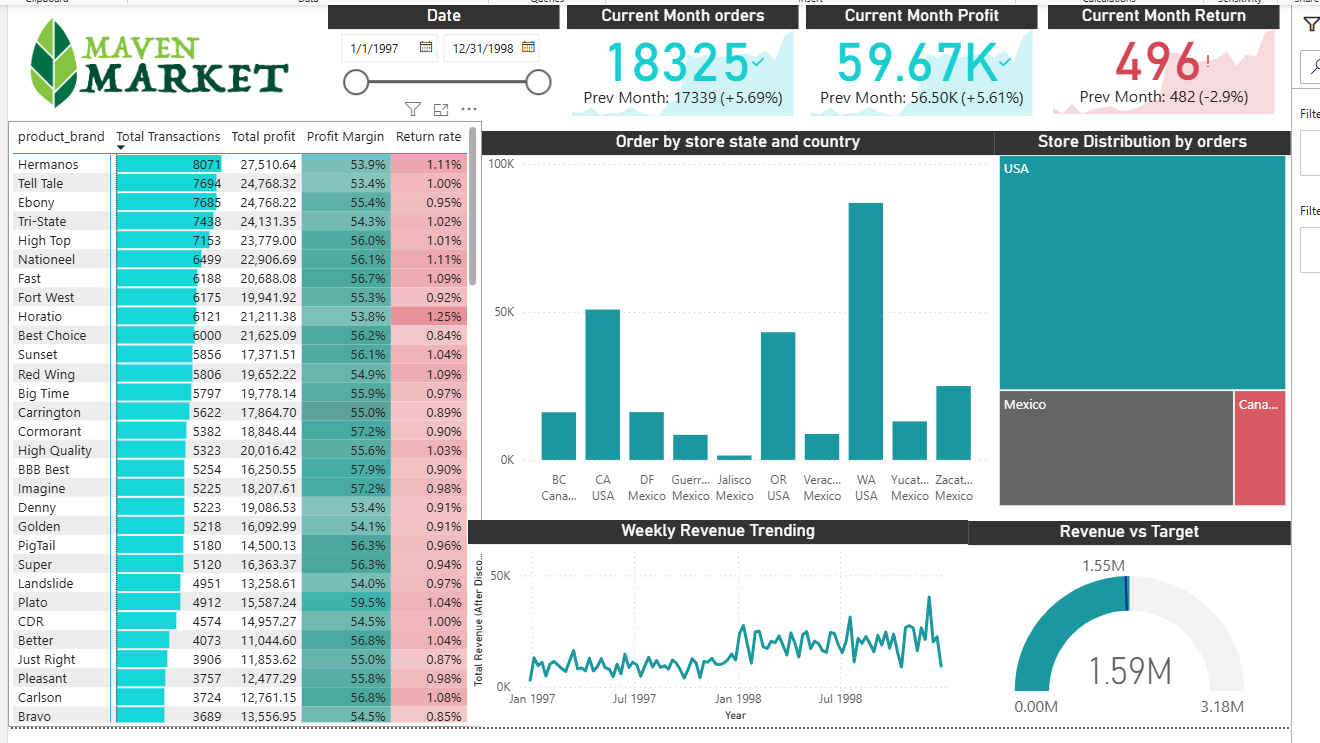

The dashboard page shown, as its layout file describes it:
{"tool":"powerbi","page":{"name":"Page 5","canvas":[1280,720],"ordinal":0},"visuals":[{"type":"image","box":[10,0,280.3,115.7],"z":0},{"type":"slicer","title":"Date","fields":{"Values":["Calendar.date"]},"box":[319.3,0,231.5,113.7],"z":1000},{"type":"kpi","title":"Current Month orders","fields":{"TrendLine":["Calendar.Start of Month"],"Goal":["_Meaures.Last month Transaction"],"Indicator":["_Meaures.Total Transactions"]},"box":[557.7,0,231.5,115.7],"z":2000},{"type":"kpi","title":"Current Month Profit","fields":{"TrendLine":["Calendar.Start of Month"],"Goal":["_Meaures.last month profit"],"Indicator":["_Meaures.Total profit"]},"box":[796.1,0,231.5,115.7],"z":3000},{"type":"kpi","title":"Current Month Return","fields":{"TrendLine":["Calendar.Start of Month"],"Goal":["_Meaures.Last Month Returns"],"Indicator":["_Meaures.Total Returns"]},"box":[1037.6,0,231.5,113.7],"z":4000},{"type":"pivotTable","fields":{"Values":["_Meaures.Total Transactions","_Meaures.Total profit","_Meaures.Profit Margin","_Meaures.Return rate"],"Rows":["Products.product_brand"]},"box":[0,115.7,472.9,604.6],"z":5000},{"type":"gauge","title":"Revenue vs Target","fields":{"Y":["_Meaures.Total Revenue (After Discount)"],"TargetValue":["_Meaures.Monthly revene target"]},"box":[957.8,514.8,322.2,205.5],"z":6000},{"type":"treemap","title":"Store Distribution by orders","fields":{"Group":["Stores.store_country","Stores.store_city","Stores.store_state"],"Values":["_Meaures.Total Transactions"]},"box":[983.7,125.7,296.3,379.1],"z":7000},{"type":"lineChart","title":"Weekly Revenue Trending","fields":{"Y":["_Meaures.Total Revenue (After Discount)"],"Category":["Calendar.Start of Week.Variation.Date Hierarchy.Year","Calendar.Start of Week.Variation.Date Hierarchy.Quarter","Calendar.Start of Week.Variation.Date Hierarchy.Month","Calendar.Start of Week.Variation.Date Hierarchy.Day"]},"box":[458.6,514.2,498.9,205.7],"z":8000},{"type":"columnChart","title":"Order by store state and country","fields":{"Category":["Stores.store_state","Stores.store_country"],"Y":["_Meaures.Total Transactions"]},"box":[472.9,125.7,510.8,379.1],"z":9000}]}

Visuals, with their boxes on the page's 1280x720 design canvas (x1, y1, x2, y2). These are canvas units, not pixel positions in the 1320x743 screenshot, which may show the page scaled, cropped or inside an application window:
image: [left=10, top=0, right=290, bottom=116]
"Date" slicer: [left=319, top=0, right=551, bottom=114]
"Current Month orders" kpi: [left=558, top=0, right=789, bottom=116]
"Current Month Profit" kpi: [left=796, top=0, right=1028, bottom=116]
"Current Month Return" kpi: [left=1038, top=0, right=1269, bottom=114]
pivotTable - _Meaures.Total Transactions x _Meaures.Total profit: [left=0, top=116, right=473, bottom=720]
"Revenue vs Target" gauge: [left=958, top=515, right=1280, bottom=720]
"Store Distribution by orders" treemap: [left=984, top=126, right=1280, bottom=505]
"Weekly Revenue Trending" lineChart: [left=459, top=514, right=958, bottom=720]
"Order by store state and country" columnChart: [left=473, top=126, right=984, bottom=505]
